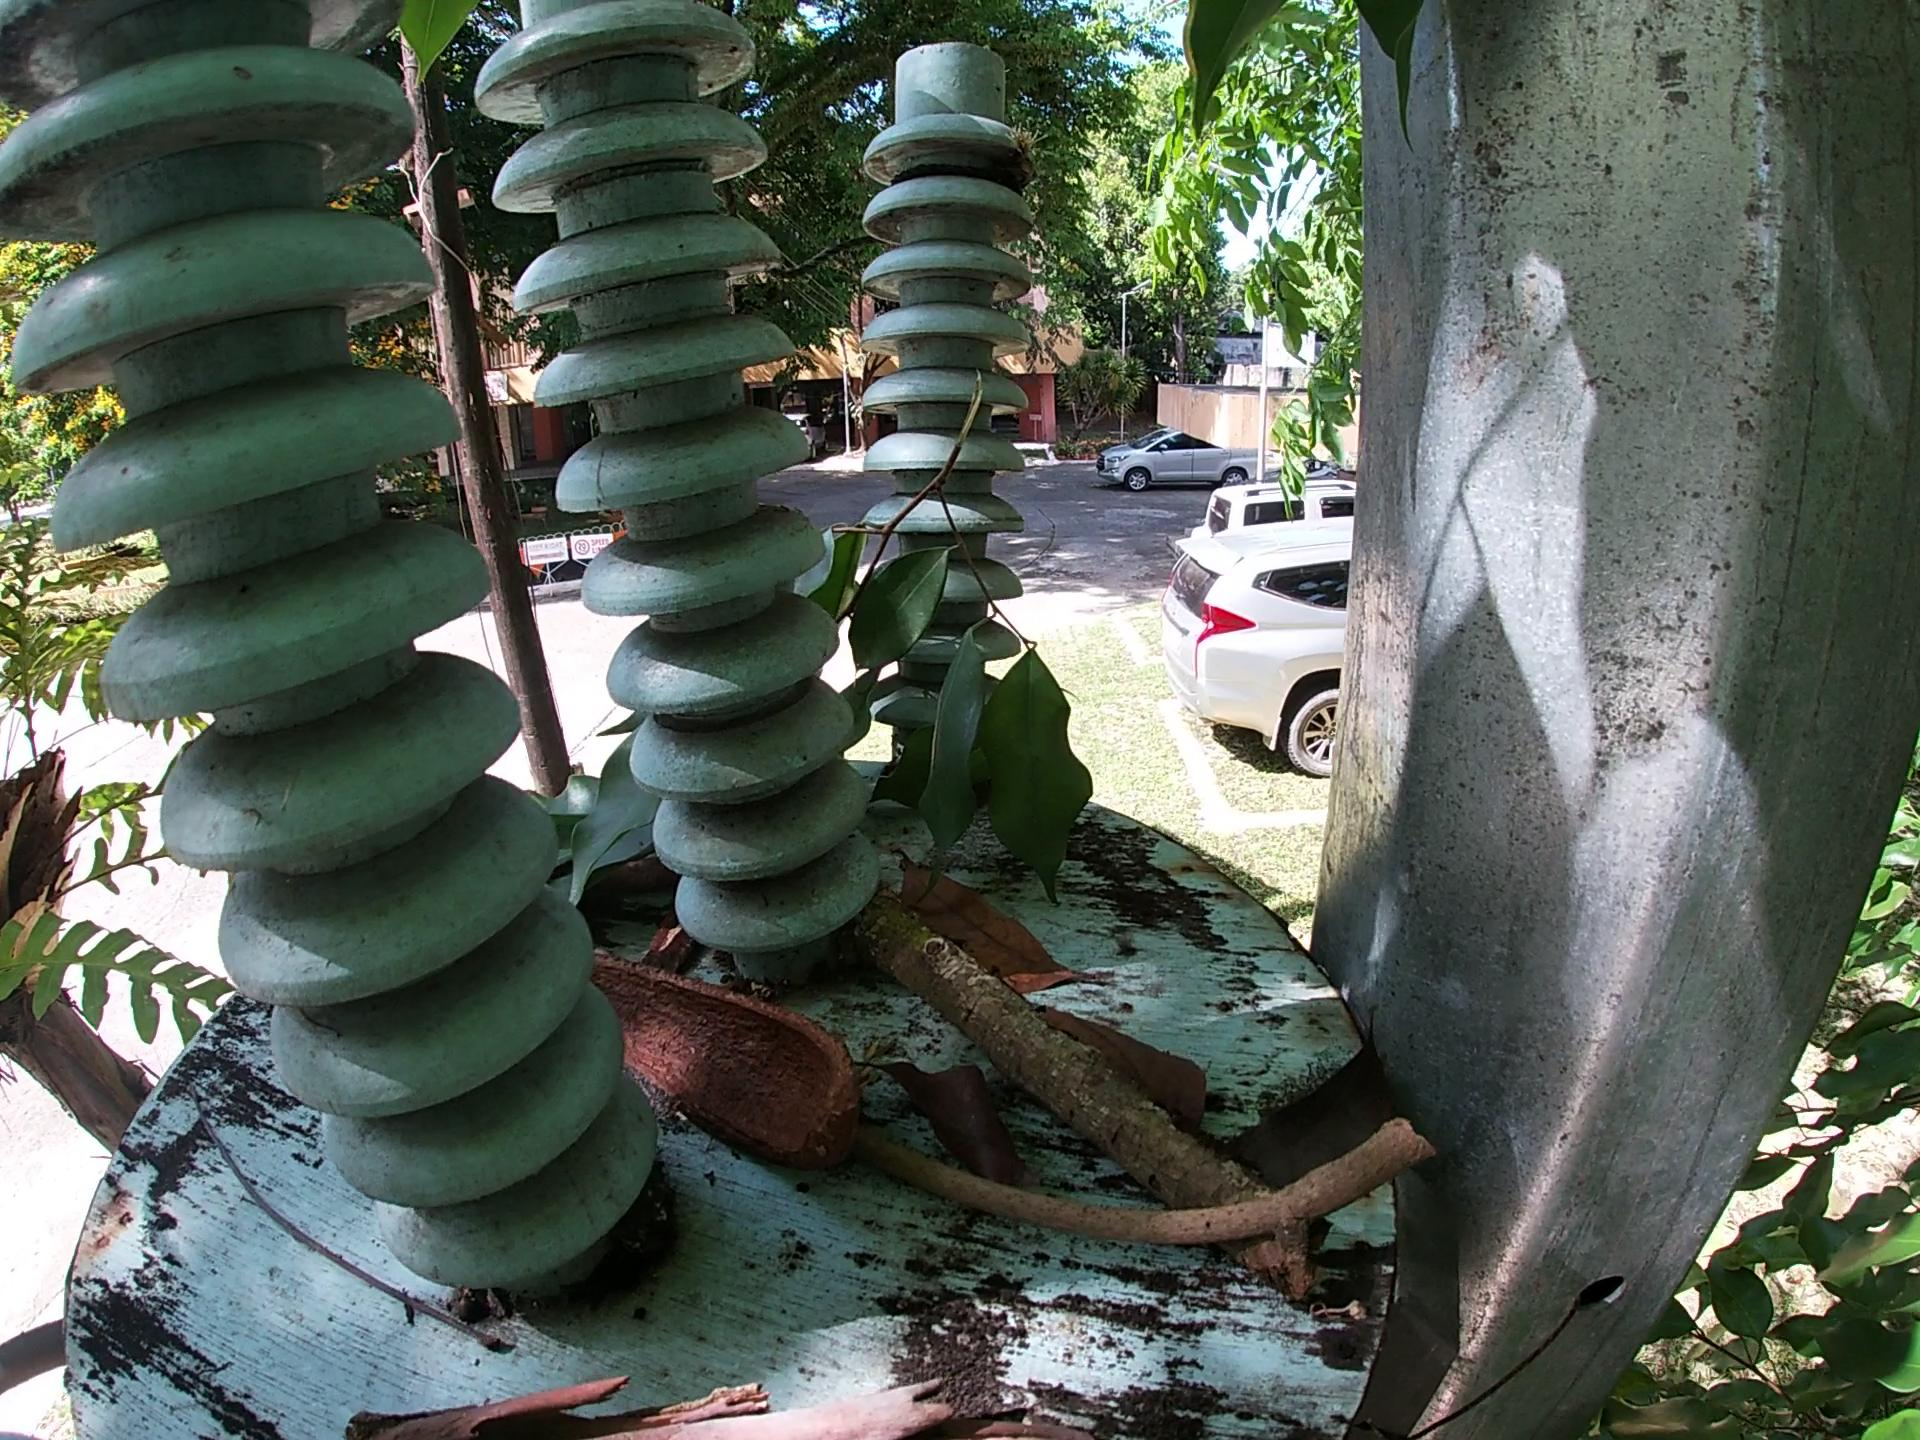branch with leaves: (801, 377, 1105, 902)
leaf: (513, 693, 703, 929), (890, 846, 1141, 998), (1211, 1000, 1400, 1178), (1023, 998, 1214, 1119), (872, 1051, 1039, 1177)
mahogany fruit: (544, 927, 878, 1168)
tree branch: (845, 880, 1355, 1305), (190, 1080, 529, 1351), (841, 1113, 1454, 1242), (284, 1355, 1113, 1434)
